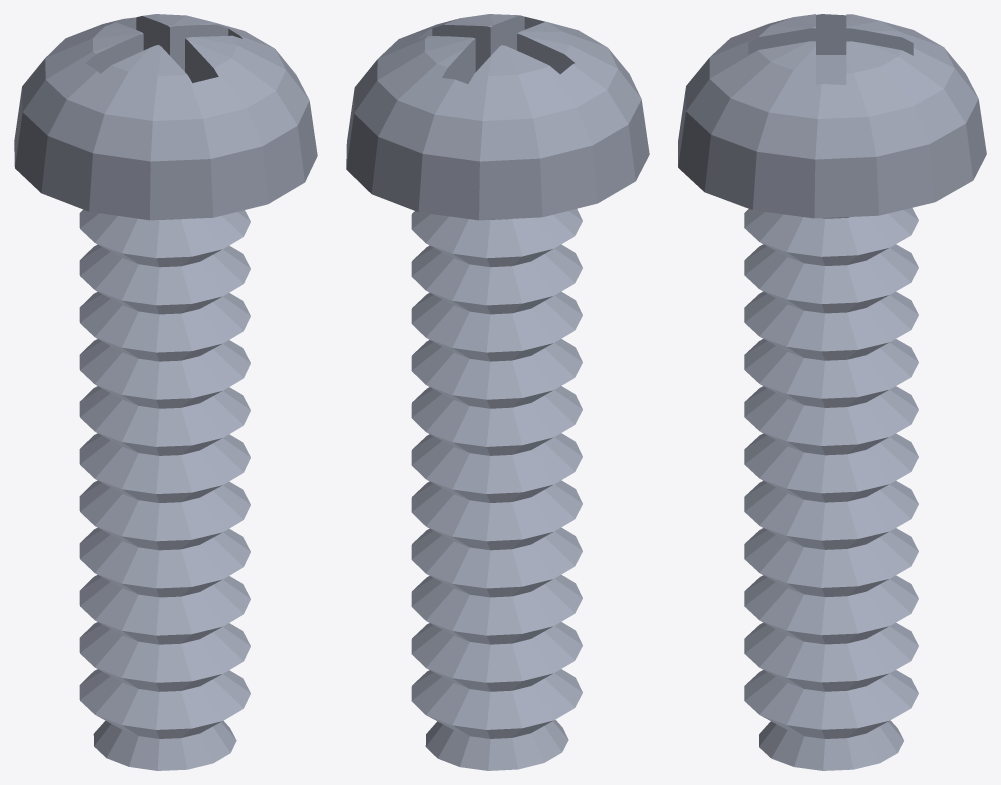
The model's file is SrewBolt.glb.
3 views of the same model, side by side, from view 1: azimuth 30°, elevation 25°; view 2: azimuth 150°, elevation 25°; view 3: azimuth 270°, elevation 25° (orthographic).
Visible parts, largest first — view 1: ScrewBolt.002; view 2: ScrewBolt.002; view 3: ScrewBolt.002.
Part boxes in pixels (x1,y1,x2,y2): ScrewBolt.002: (14, 14, 317, 770); ScrewBolt.002: (346, 14, 649, 770); ScrewBolt.002: (678, 14, 986, 770).
Bounding box in the file's own units: 0.2256 × 0.5895 × 0.2292.
1 material, 1 textured.
